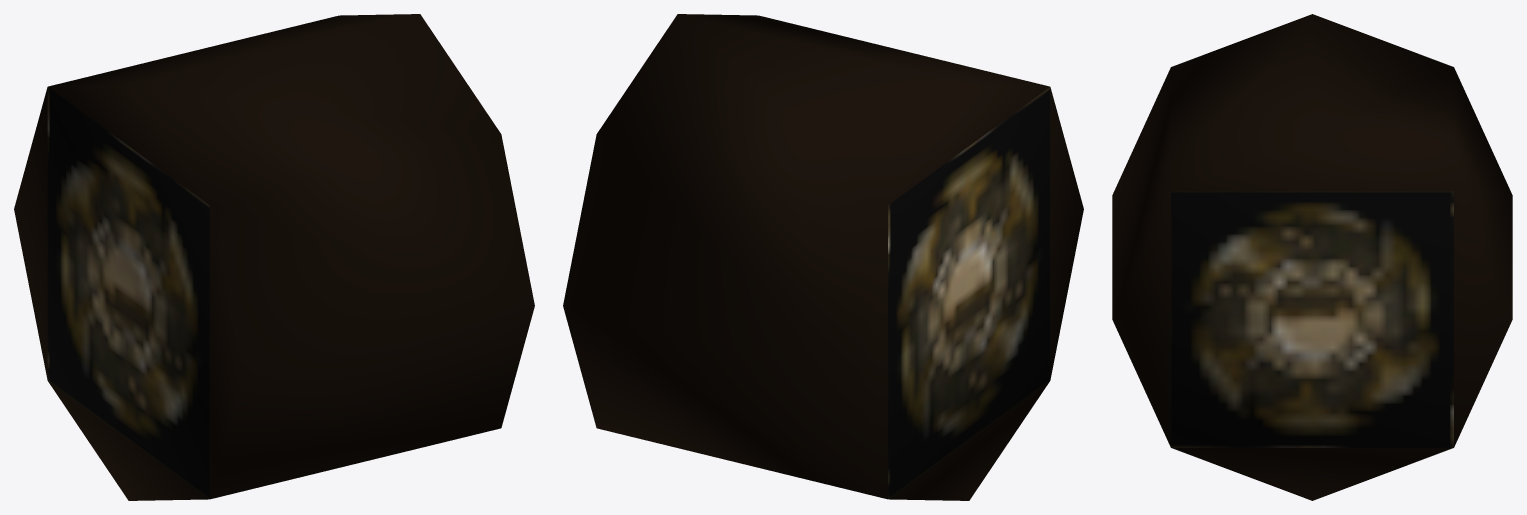
File: WheelRearL.obj
3 views of the same model, side by side, from view 1: azimuth 30°, elevation 25°; view 2: azimuth 150°, elevation 25°; view 3: azimuth 270°, elevation 25° (orthographic). The views are drawn at different scales.
Parts seen in each view (by area): view 1: WheelRearL; view 2: WheelRearL; view 3: WheelRearL.
Part boxes in pixels (bbox=[...]): WheelRearL: bbox=[14, 14, 534, 500]; WheelRearL: bbox=[563, 14, 1083, 500]; WheelRearL: bbox=[1112, 14, 1512, 500].
Size of the model in its own units: 0.8578 by 1.17 by 1.17.
2 materials, 1 textured.
